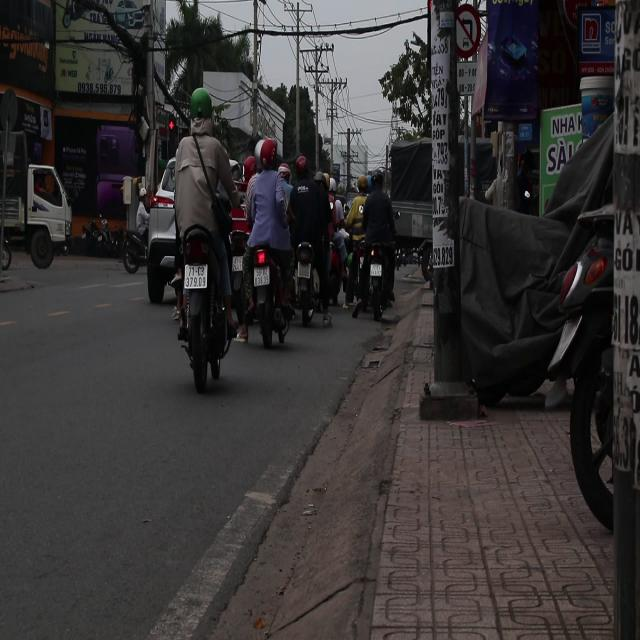motorbike: (181, 222, 239, 383), (244, 230, 290, 340), (293, 238, 331, 331), (361, 240, 389, 316), (82, 215, 121, 256), (122, 217, 149, 276)
truck: (27, 167, 73, 268)
